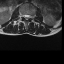CCS_normal: (26, 12, 28, 22)
LFS_normal: (30, 12, 32, 20)
LLS_normal: (28, 12, 30, 21)
RFS_normal: (21, 11, 24, 19)
RLS_normal: (24, 11, 26, 20)
